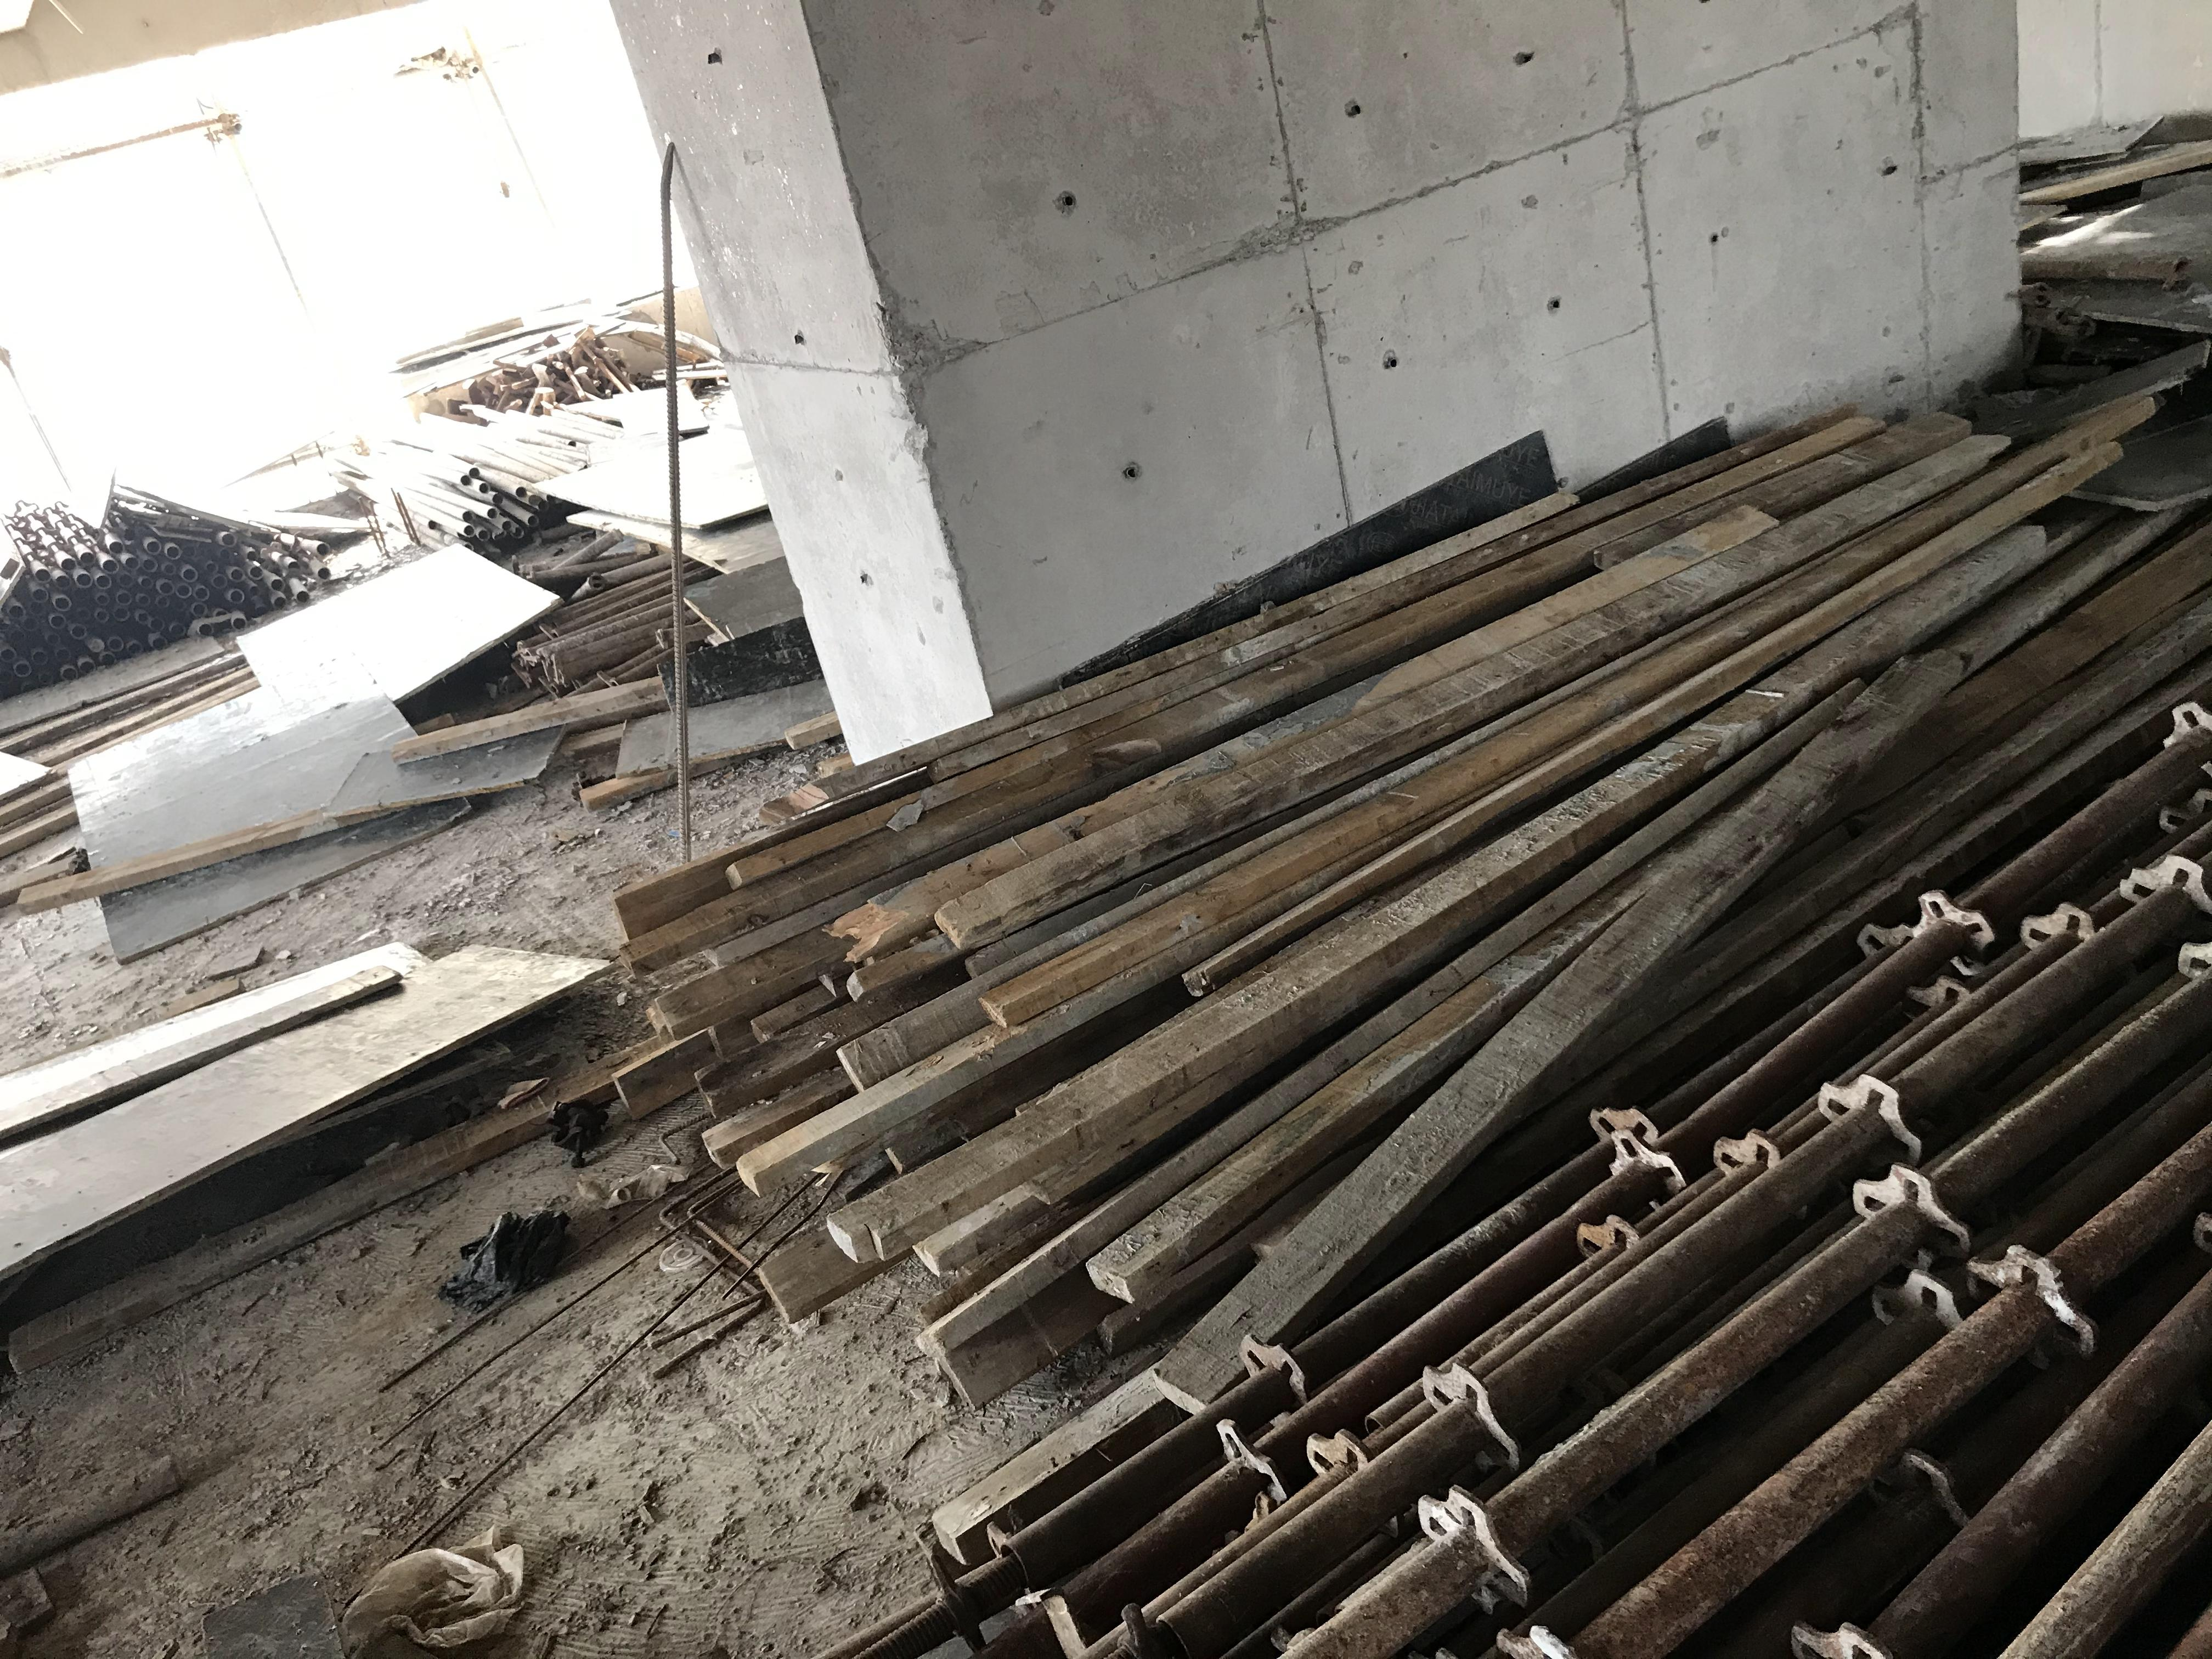scaffold: (831, 697, 2212, 1657)
wood: (611, 380, 2149, 1405)
